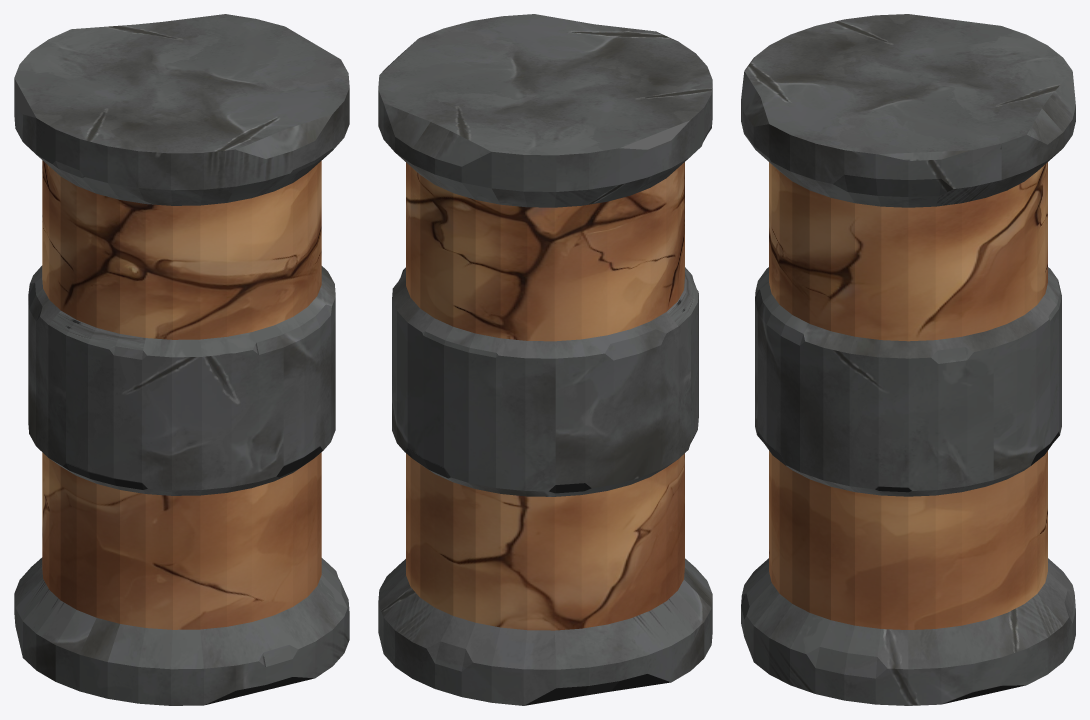
Rendered from Pillar Styalized.glb.
The picture shows the model from 3 angles, left to right: view 1: azimuth 30°, elevation 25°; view 2: azimuth 150°, elevation 25°; view 3: azimuth 270°, elevation 25°; orthographic projection.
Visible parts, largest first — view 1: Cylinder; view 2: Cylinder; view 3: Cylinder.
Boxes of the visible parts, x1,y1,x2,y2 form: Cylinder: [14, 14, 349, 705]; Cylinder: [378, 14, 712, 705]; Cylinder: [741, 14, 1075, 705].
Size of the model in its own units: 3.04 by 5.51 by 3.04.
2 materials, 2 textured.
